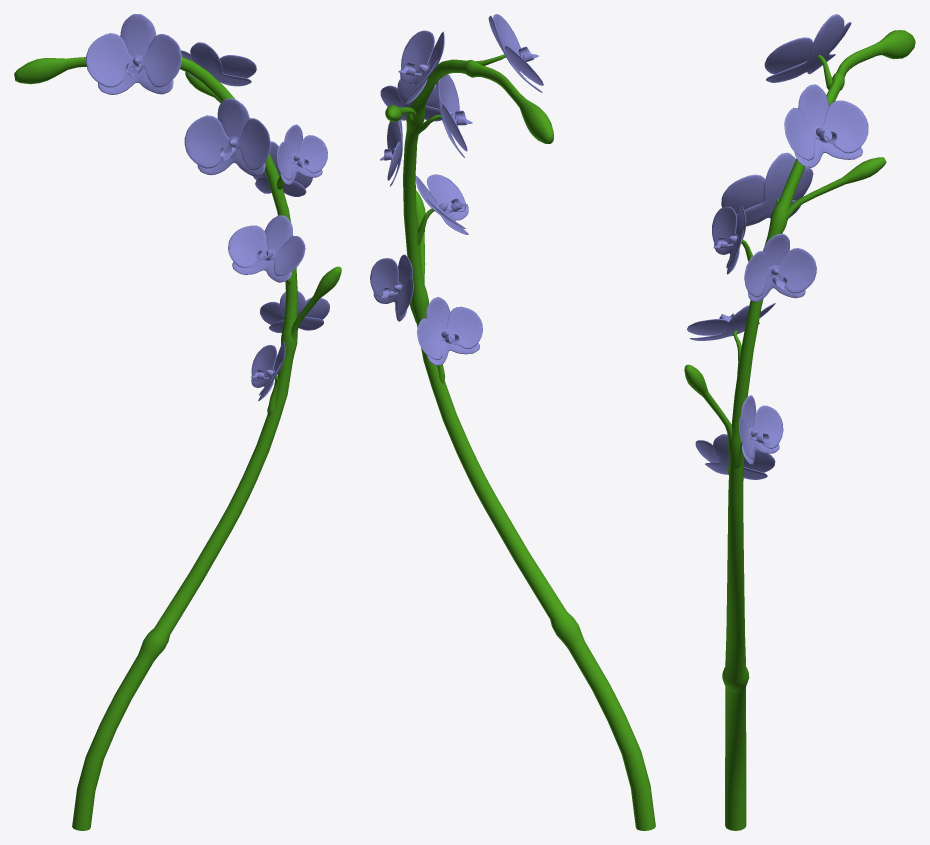
Rendered from SM_Branche_01.fbx.
3 views of the same model, side by side, from view 1: azimuth 30°, elevation 25°; view 2: azimuth 150°, elevation 25°; view 3: azimuth 270°, elevation 25° (orthographic). The views are drawn at different scales.
Parts seen in each view (by area): view 1: SM_Branche_01; view 2: SM_Branche_01; view 3: SM_Branche_01.
Part boxes in pixels (<box>): SM_Branche_01: <box>14,14,341,830</box>; SM_Branche_01: <box>370,14,655,830</box>; SM_Branche_01: <box>684,14,915,830</box>.
Bounding box in the file's own units: 79.98 × 223 × 53.88.
